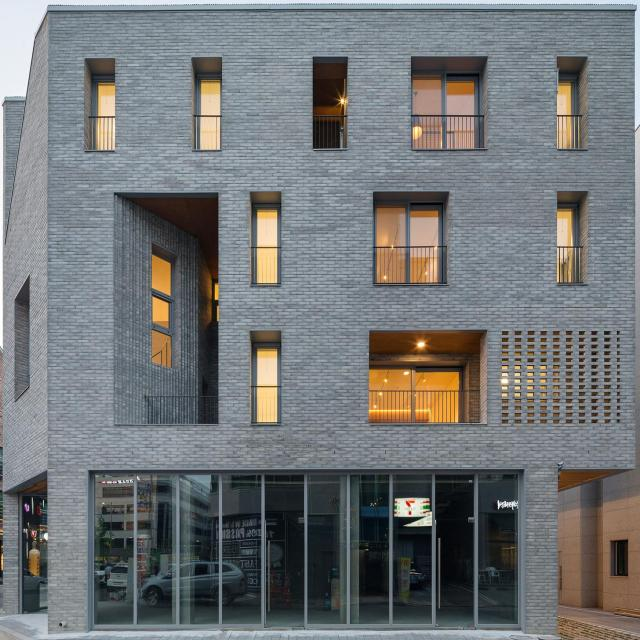door: (89, 473, 518, 630)
railing: (364, 392, 476, 424), (370, 248, 445, 286), (408, 118, 483, 150), (146, 396, 218, 424), (310, 117, 345, 154), (249, 248, 281, 286), (249, 389, 280, 423), (190, 116, 219, 152), (554, 248, 582, 285), (86, 117, 113, 150), (555, 117, 581, 151)
window: (20, 494, 49, 616), (408, 73, 478, 117), (372, 203, 440, 248), (148, 253, 173, 369), (365, 368, 461, 392), (251, 346, 281, 388), (248, 208, 279, 248), (554, 208, 578, 249), (196, 79, 219, 117), (91, 81, 113, 118), (555, 80, 575, 118)
